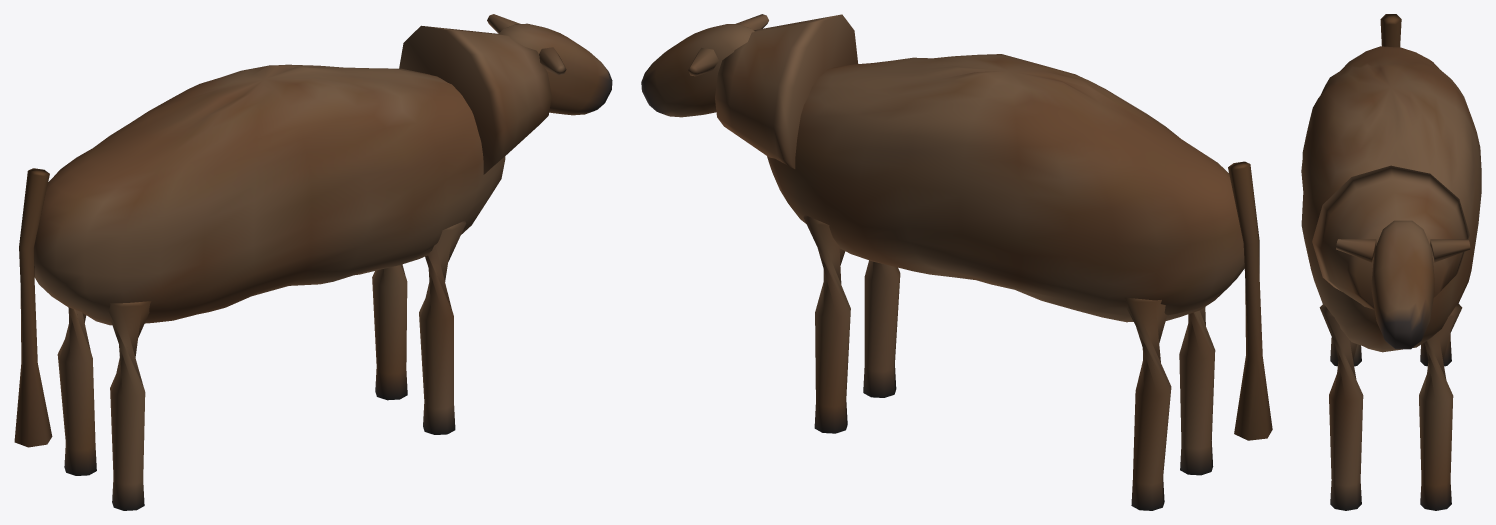
Rendered from SM_Animal_cow_stand_1.glb.
The picture shows the model from 3 angles, left to right: view 1: azimuth 30°, elevation 25°; view 2: azimuth 150°, elevation 25°; view 3: azimuth 270°, elevation 25°; orthographic projection. The views are drawn at different scales.
Parts seen in each view (by area): view 1: SM_Animal_cow_stand_1; view 2: SM_Animal_cow_stand_1; view 3: SM_Animal_cow_stand_1.
Boxes of the visible parts, x1=… form: SM_Animal_cow_stand_1: x1=14, y1=14, x2=612, y2=510; SM_Animal_cow_stand_1: x1=641, y1=14, x2=1272, y2=510; SM_Animal_cow_stand_1: x1=1301, y1=14, x2=1481, y2=510.
Bounding box in the file's own units: 2.48 × 1.47 × 0.6816.
